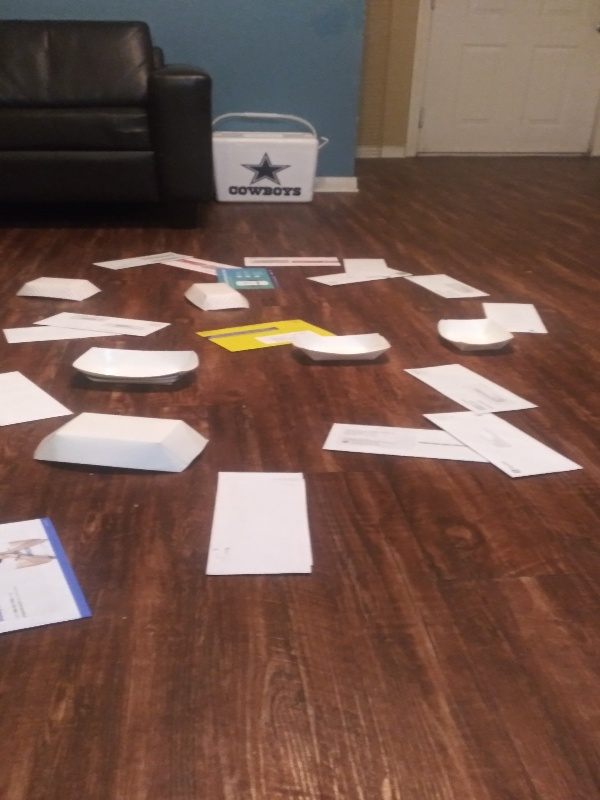plate: (32, 411, 213, 476), (67, 343, 205, 396), (433, 312, 517, 359), (287, 330, 395, 366), (12, 275, 105, 307), (178, 280, 255, 314)
